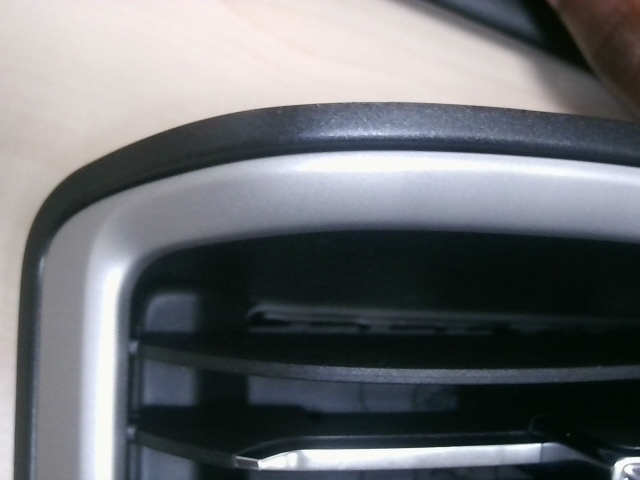NG: (423, 93, 450, 133)
